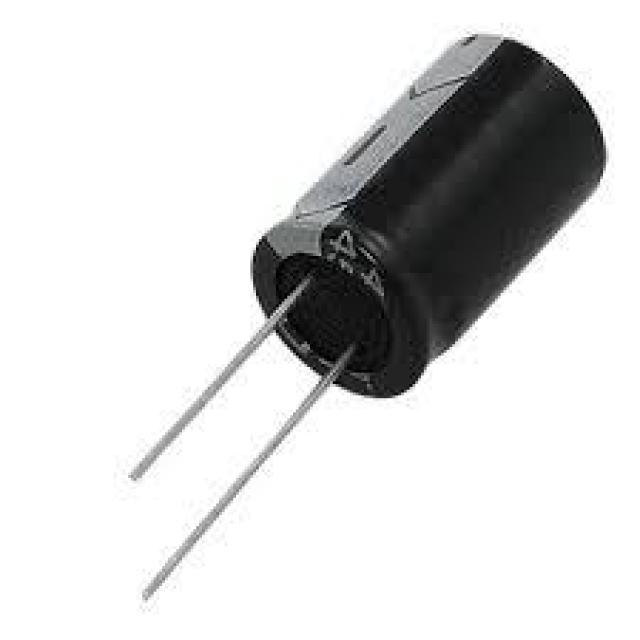Capacitor: (134, 31, 609, 600)
